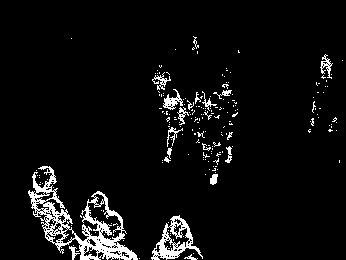person: (29, 165, 79, 252), (84, 193, 138, 260), (201, 95, 227, 182), (161, 87, 187, 161), (220, 84, 240, 165), (151, 63, 172, 97), (193, 89, 206, 138)
